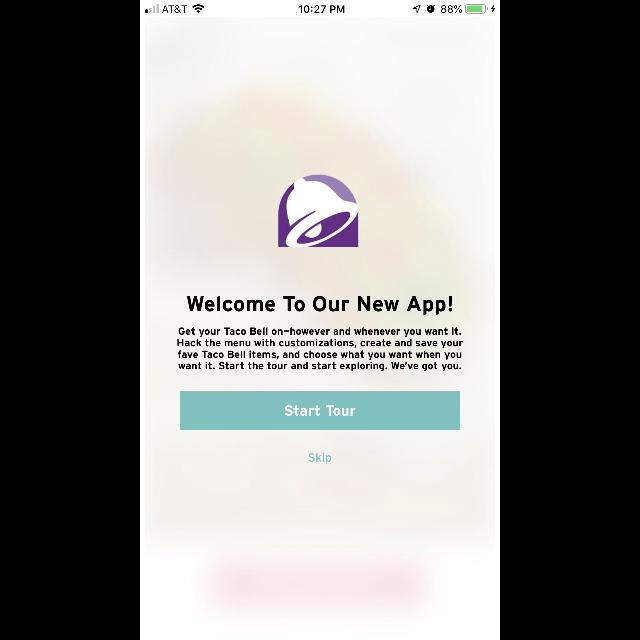image: (278, 175, 358, 248)
text: (178, 327, 462, 371), (188, 296, 452, 316), (308, 454, 332, 464)
textbutton: (180, 392, 460, 431)
uppertaskbar: (140, 0, 500, 14)
